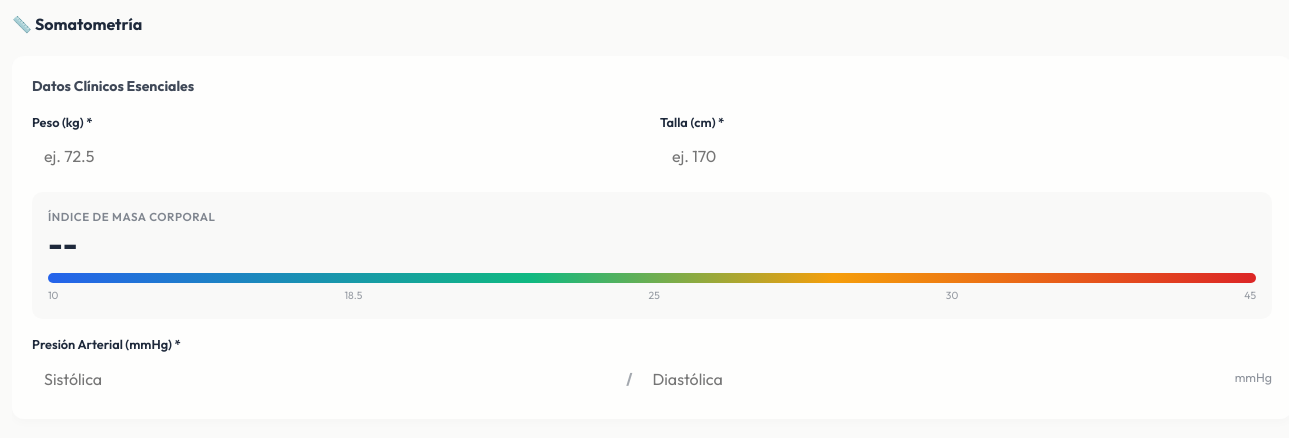
Scenario: SomatometricsForm Component › displays warning badge if systolic blood pressure is elevated (>= 140)
The width and height of the screenshot is (1289, 438).
// Type normal BP values
Type "120" into the number field with placeholder "Sistólica" at (325, 378), box [32,358,618,398]
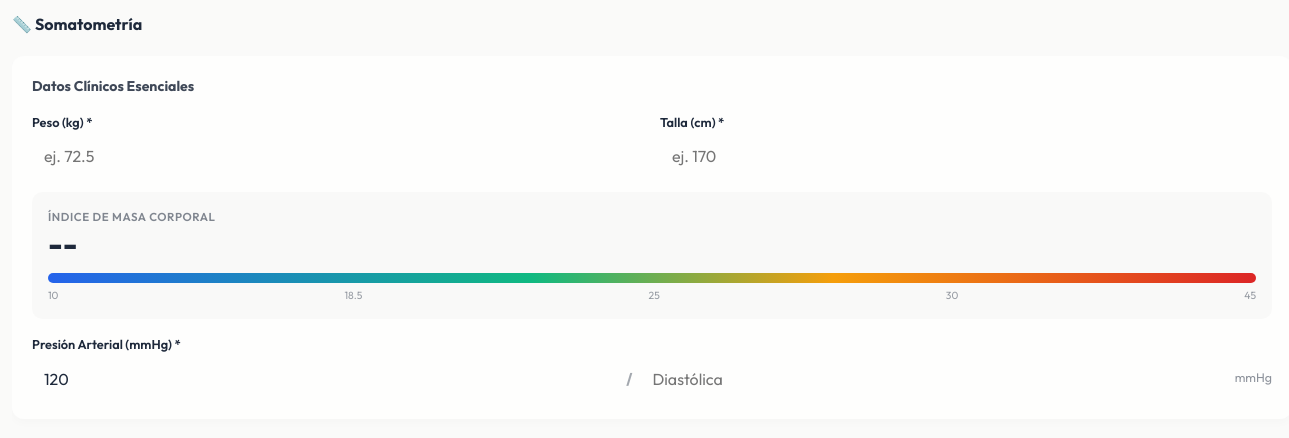
Type "80" into the number field with placeholder "Diastólica" at (934, 378), box [640,358,1227,398]
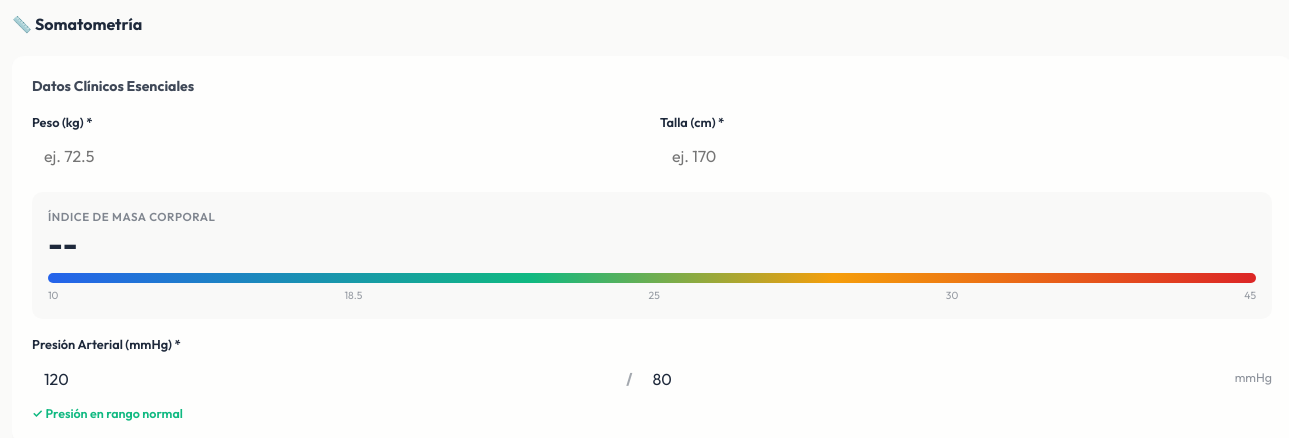
Now the text "✓ Presión en rango normal" is shown, box [32,406,183,420]
// Type high BP values
Replace the text in the 1st number field with placeholder "Sistólica" with "145" at (325, 378), box [32,358,618,398]
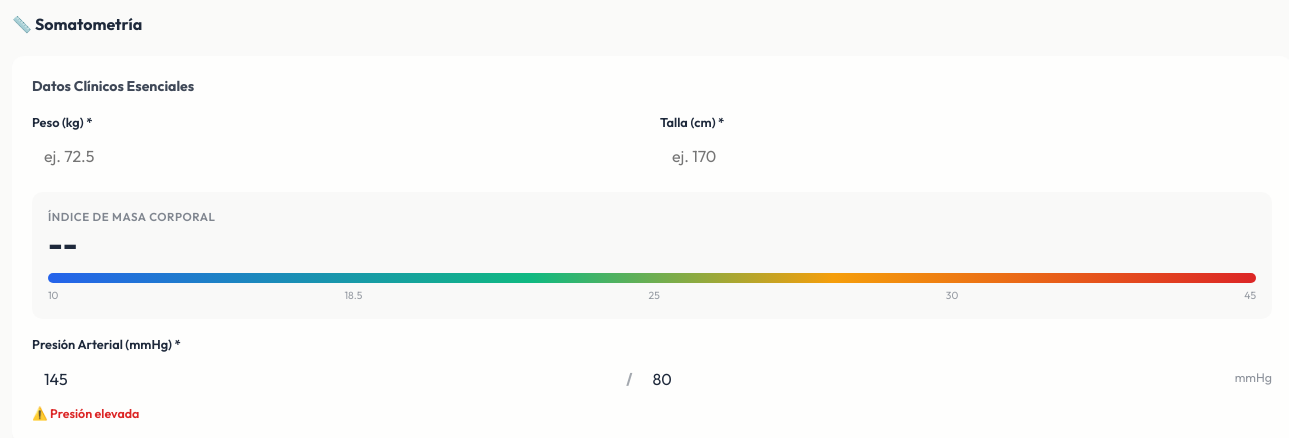
Now the text "⚠️ Presión elevada" is shown, box [32,406,139,420]
